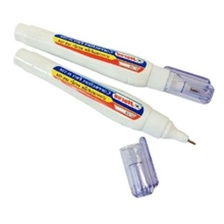correction_fluid: (11, 45, 198, 146), (13, 22, 217, 107)
